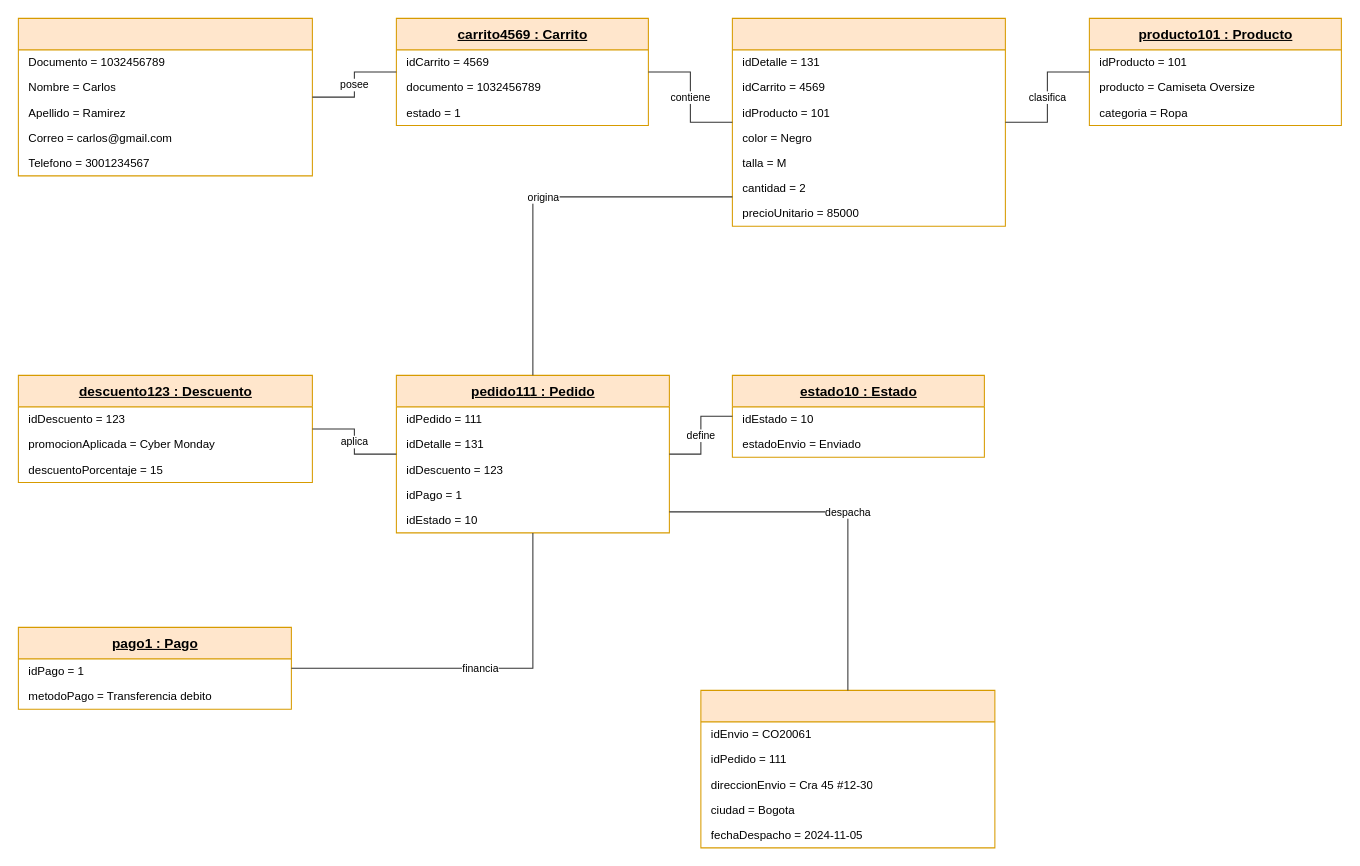
Image size: 1360x866. Some labels were removed from this diagram. The box of each missing label's shape, as (x1, y1, x2, y2) in pixels:
cliente1032456789 : Cliente: (17, 17, 312, 176)
detalle131 : Detalle_Carrito: (731, 17, 1005, 226)
envioCO20061 : Envio: (700, 689, 995, 848)
